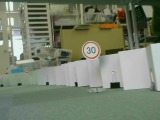speed_30: (81, 40, 101, 60)
